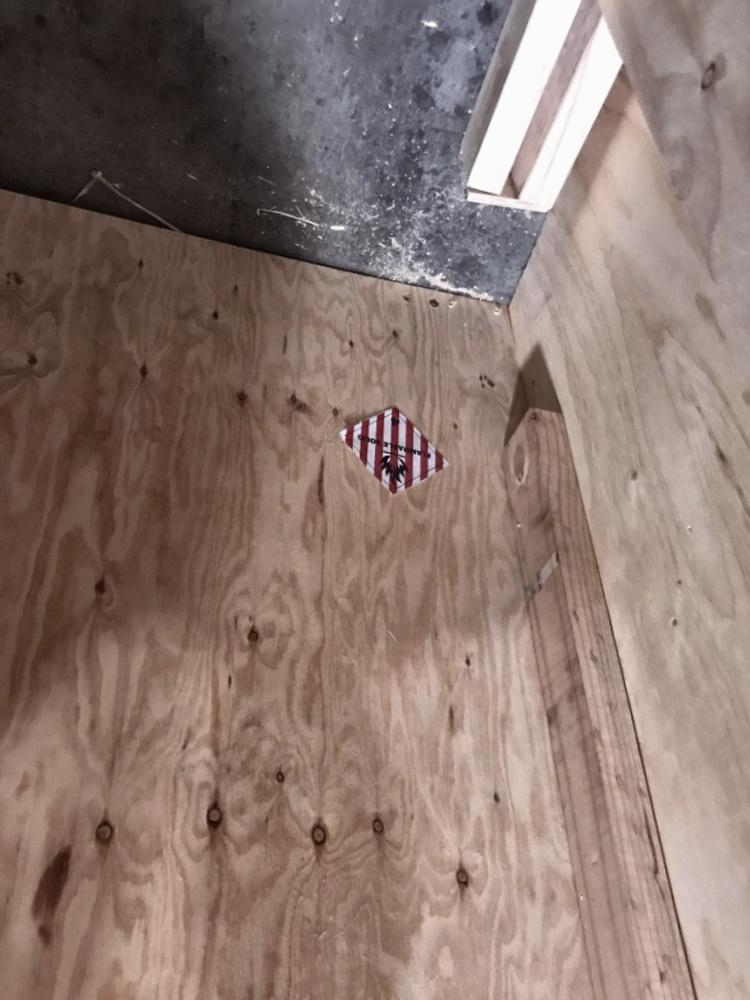flammable-solid: (335, 403, 452, 495)
